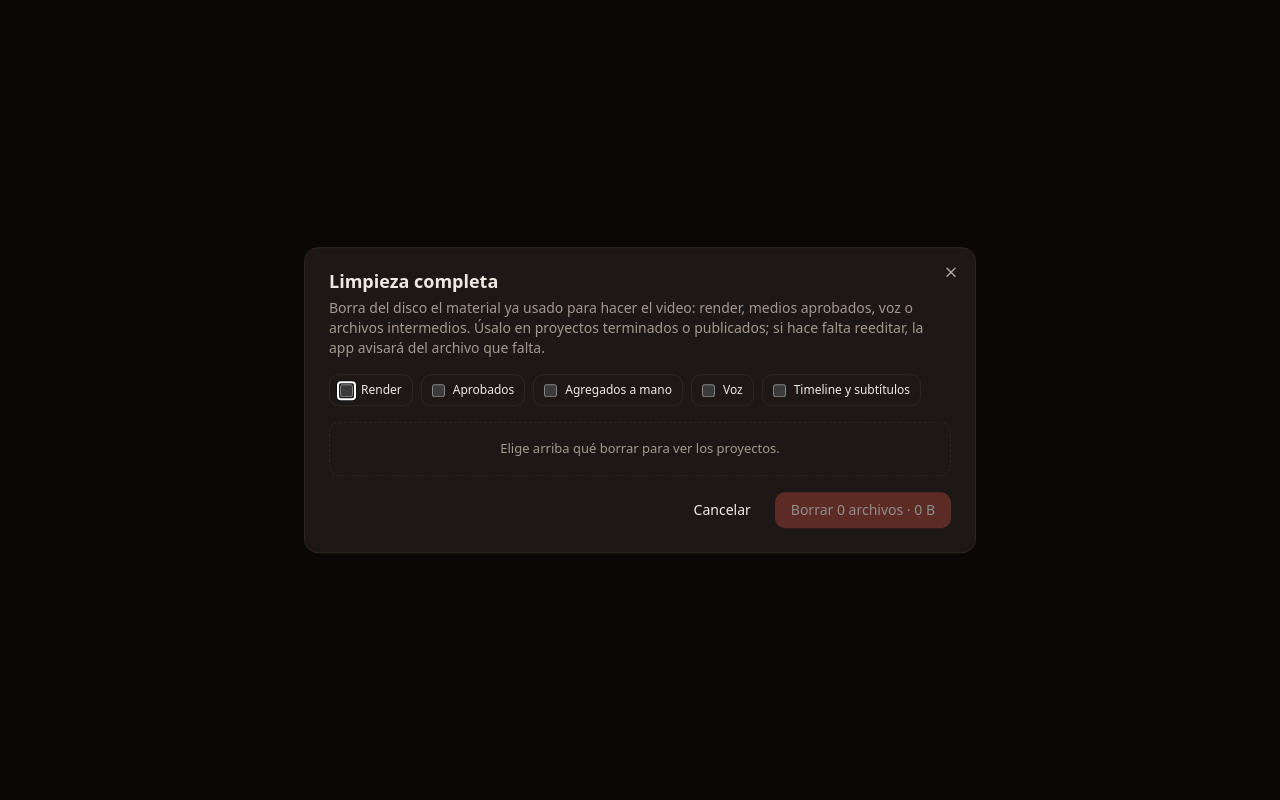
copia de seguridad › limpieza completa: sin carpeta de respaldo invita a configurarla
Click the checkbox labelled "Render" at (346, 390), box [340,384,353,397]
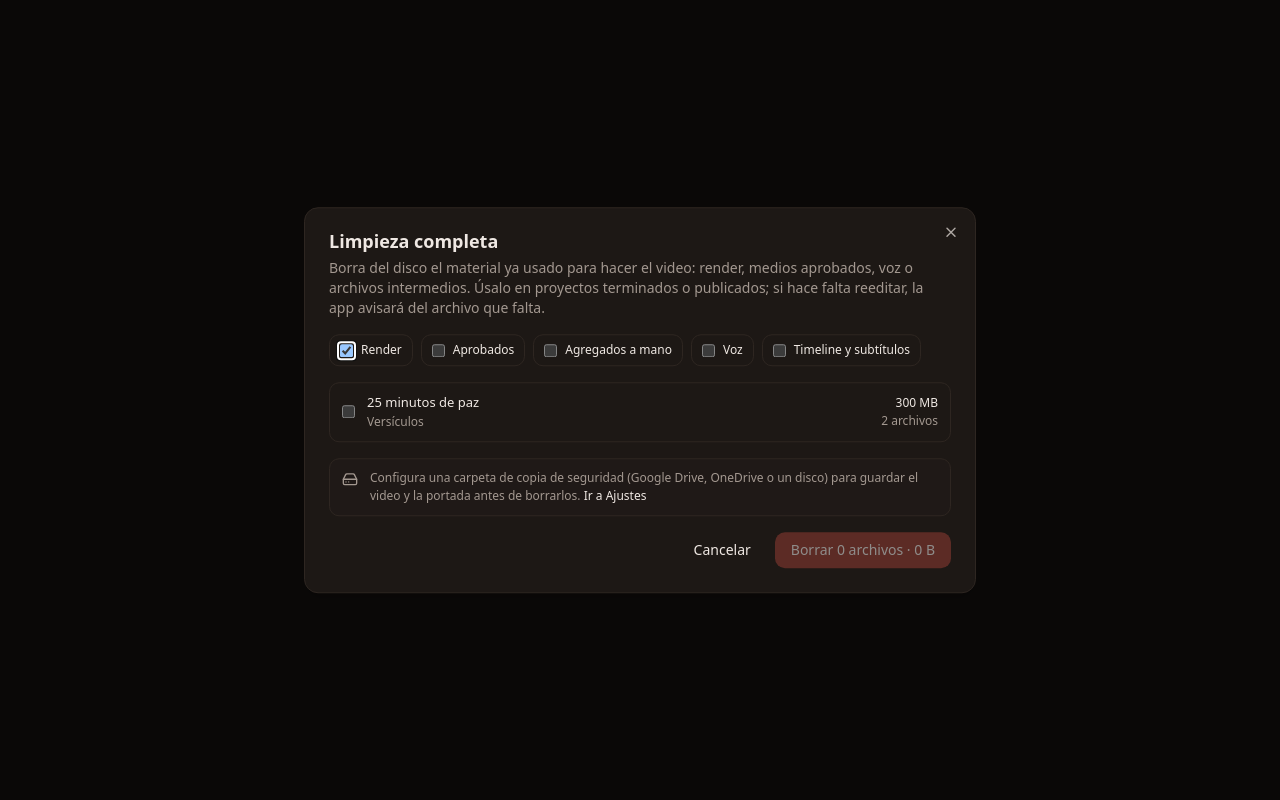
Expected: the text "Configura una carpeta de copia de seguridad" is shown, [370,469,918,504]
